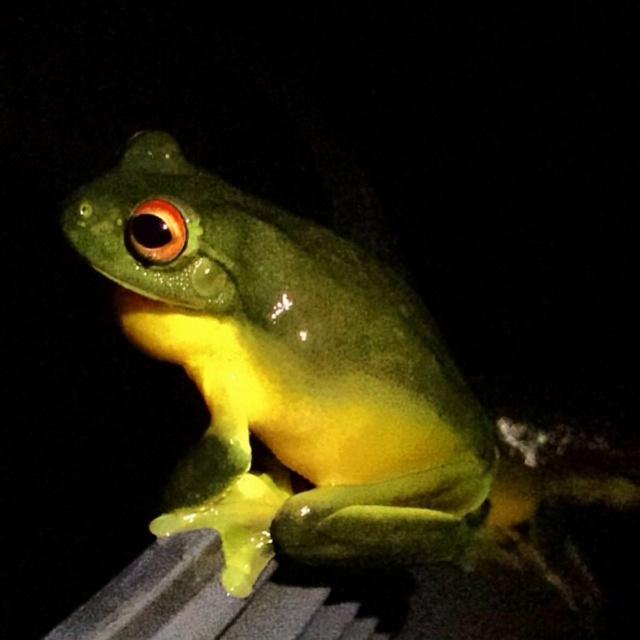Frog: (62, 131, 639, 601)
